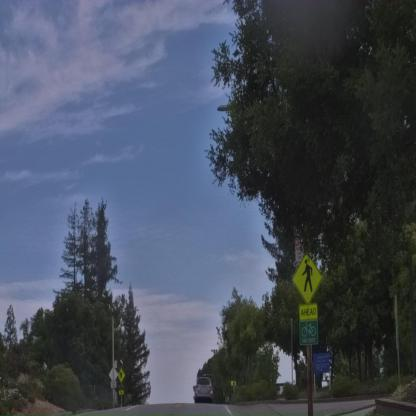car: (193, 378, 214, 404)
sign: (290, 252, 328, 346)
